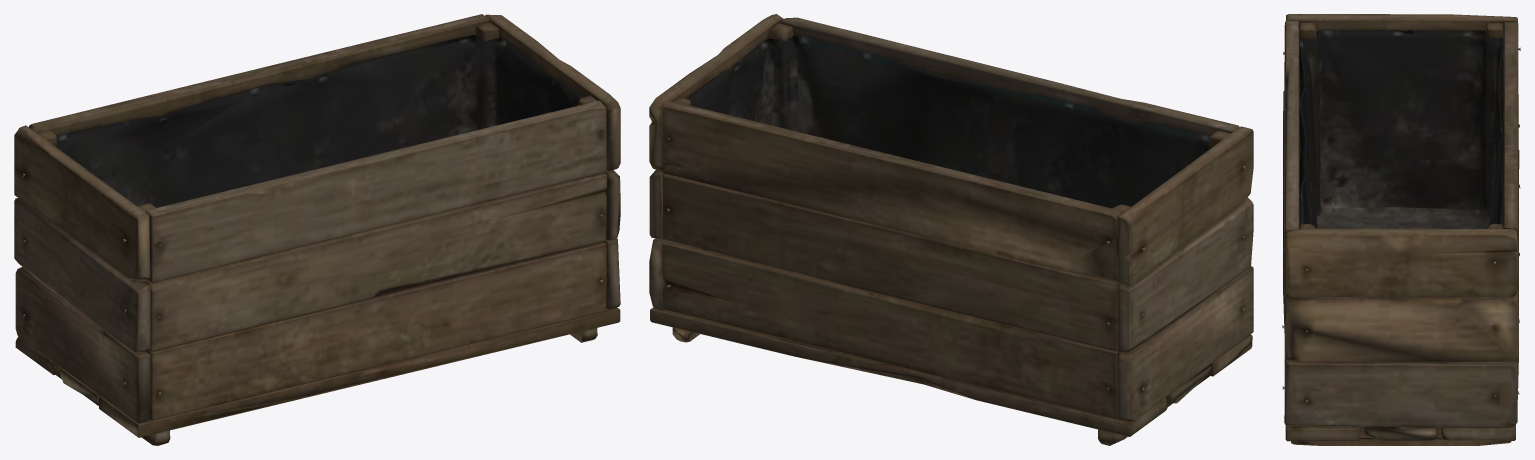
File: planter_box_01.glb
3 renders of one model, left to right at view 1: azimuth 30°, elevation 25°; view 2: azimuth 150°, elevation 25°; view 3: azimuth 270°, elevation 25°, orthographic. The views are drawn at different scales.
Visible parts, largest first — view 1: planter_box_01; view 2: planter_box_01; view 3: planter_box_01.
Part boxes in pixels (box(x1,y1,x2,y2)): planter_box_01: box(14, 14, 620, 445); planter_box_01: box(649, 14, 1253, 445); planter_box_01: box(1282, 14, 1520, 445).
Bounding box in the file's own units: 0.9126 × 0.4249 × 0.4135.
1 material, 1 textured.
